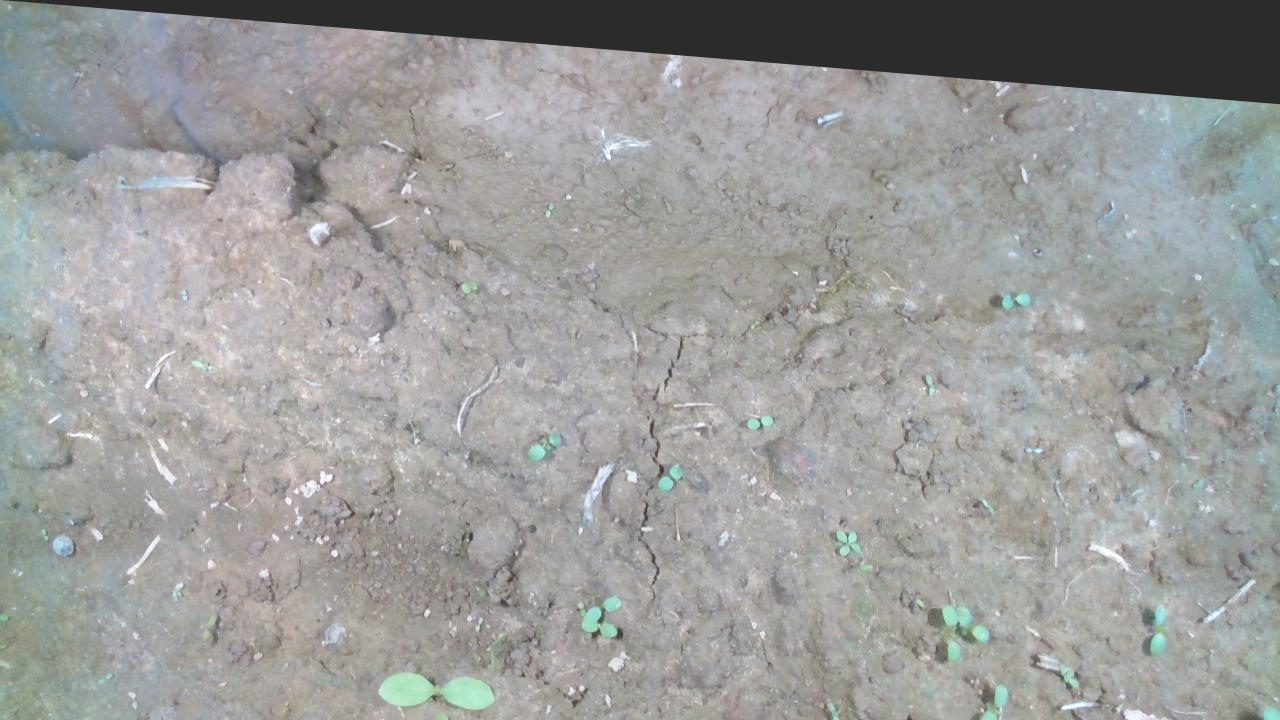weed: (653, 442, 694, 487), (830, 508, 862, 548), (745, 395, 780, 425), (999, 266, 1030, 298), (528, 421, 557, 452), (456, 267, 485, 289), (428, 702, 462, 719), (34, 524, 52, 543)
